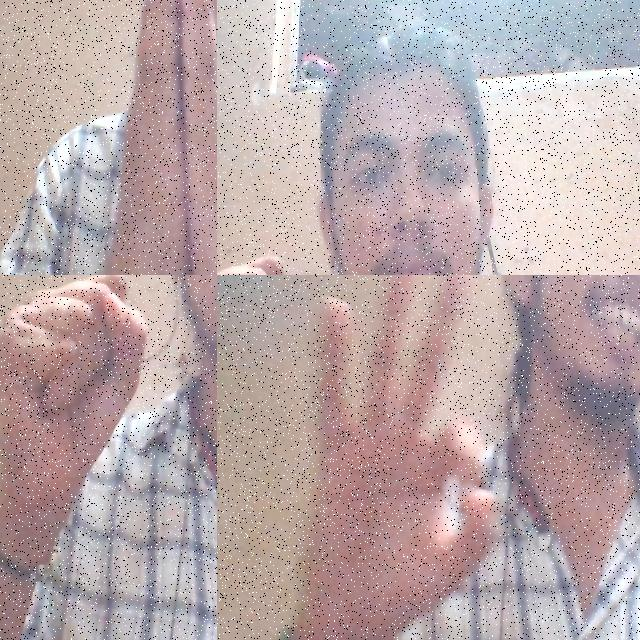No: (0, 275, 160, 529)
Please: (281, 275, 515, 621)
Thank You: (39, 0, 217, 271)
